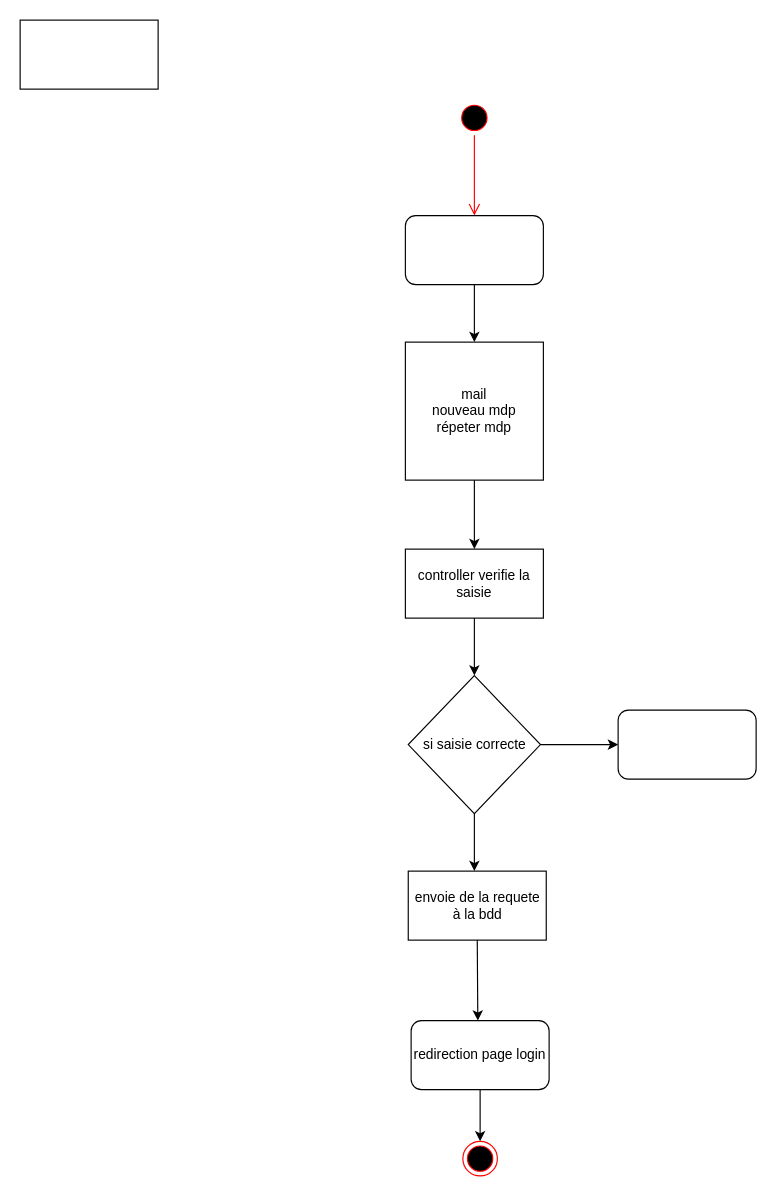
This 776x1196 diagram has some shape labels left out. Each missing label, with the centre of its shape:
message: champs incorrect: the point at 686,744
mot de passe oublié: the point at 88,54
Page mot de passe oublié: the point at 473,249
